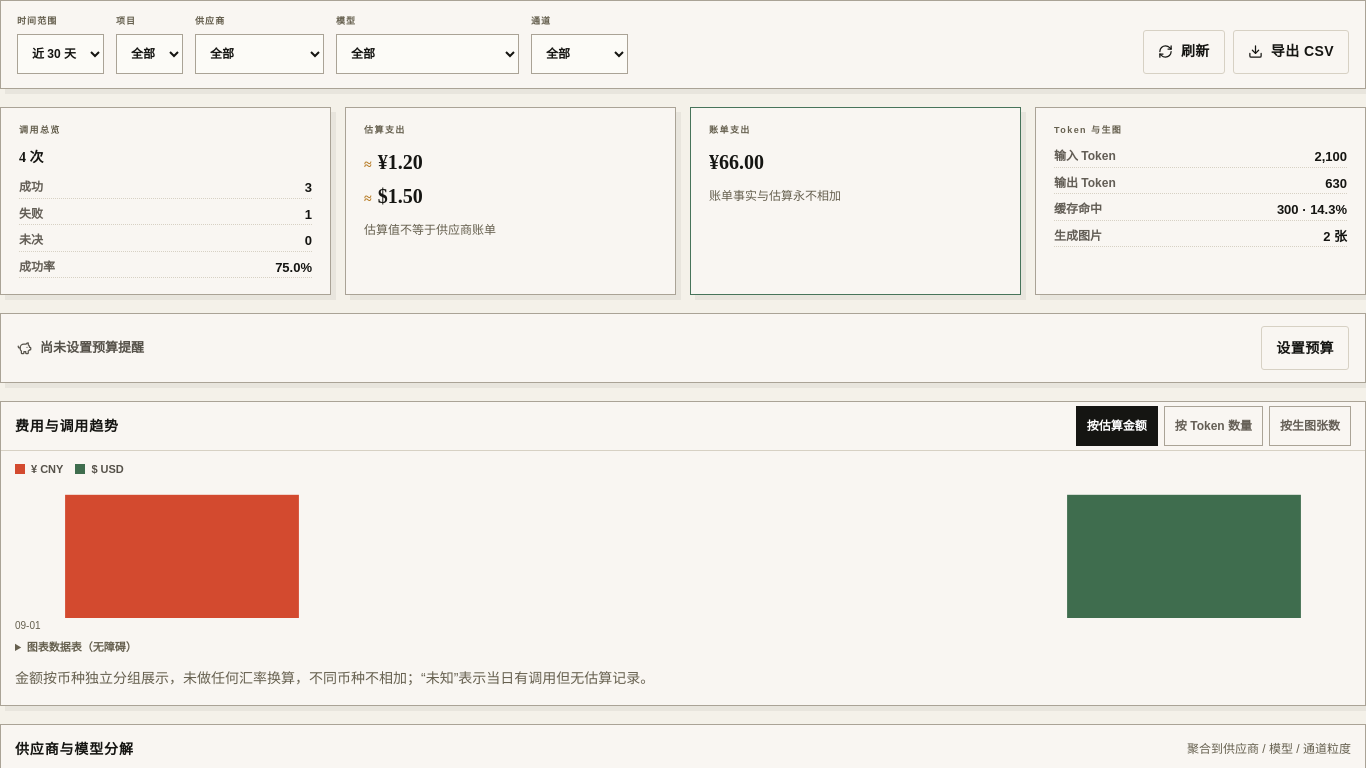
it: UsageDashboard cost semantics › 自定义范围缺开始日期时可见拒绝查询，而不是退化为全量统计
Check: the list item "¥66.00" is shown, box [709, 151, 764, 173]
Select "自定义" in the dropdown named "选择用量统计时间范围" at (60, 54), box [17, 34, 104, 74]
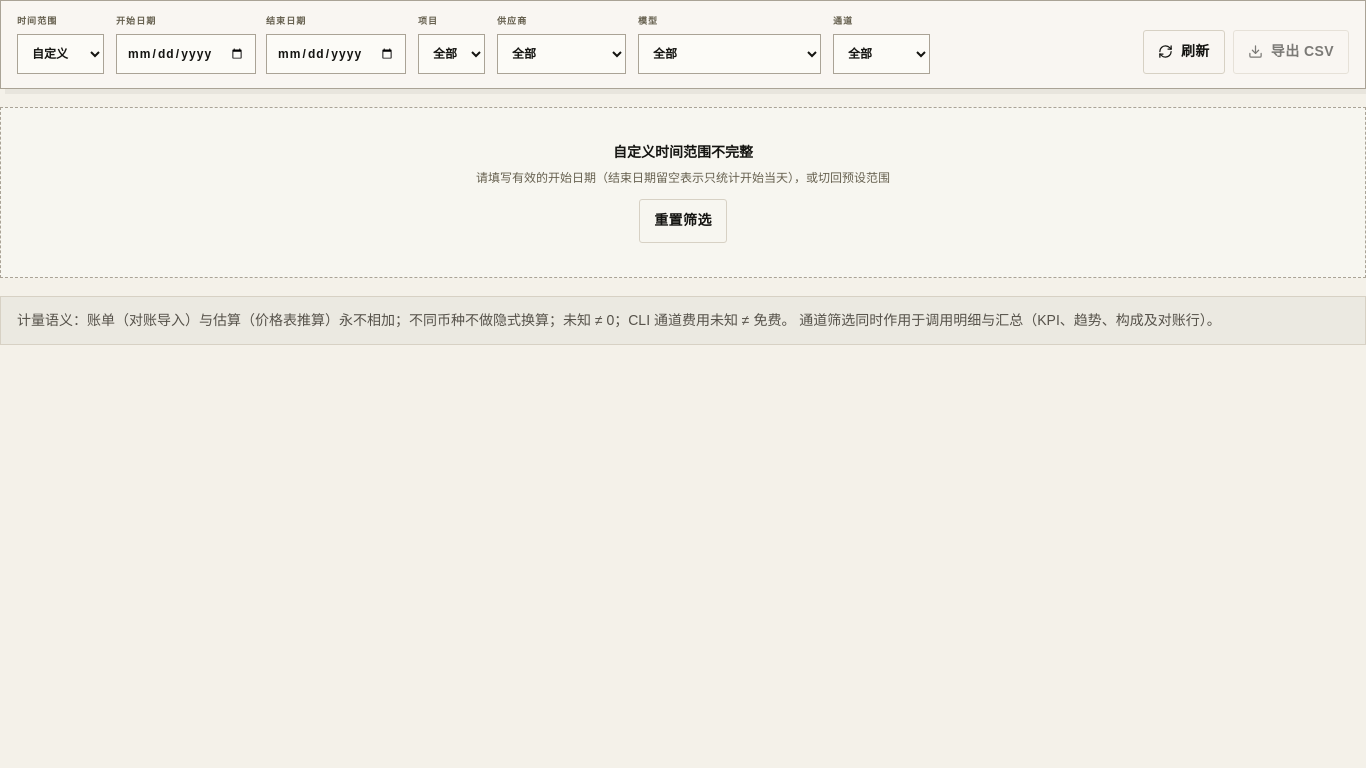
Check: the text "自定义时间范围不完整" is shown, box [613, 144, 753, 160]
Check: the list item "¥66.00" is gone
补齐开始日期后恢复正常查询。
Type "2026-09-01" into the date field named "自定义开始日期" at (186, 54), box [116, 34, 256, 74]
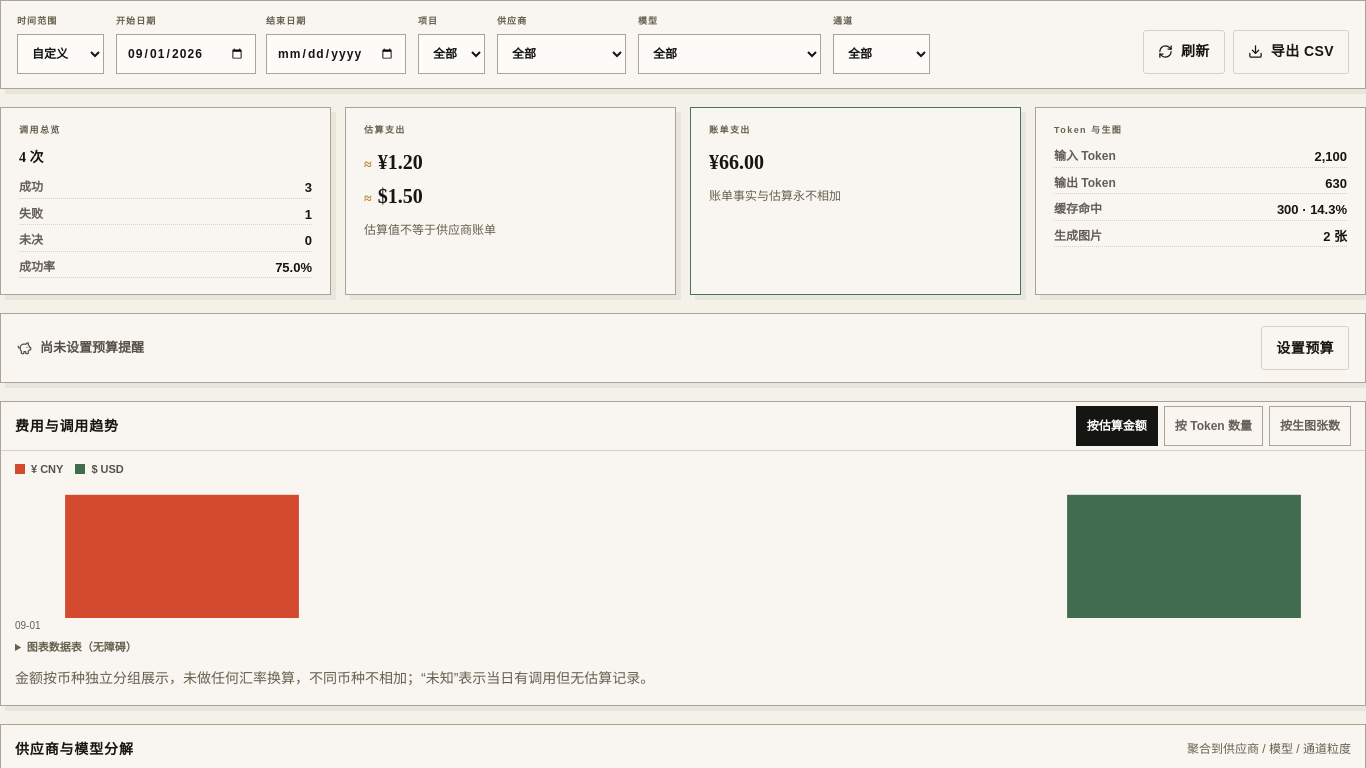
Check: the list item "¥66.00" is shown, box [709, 151, 764, 173]
Check: the text "自定义时间范围不完整" is gone
